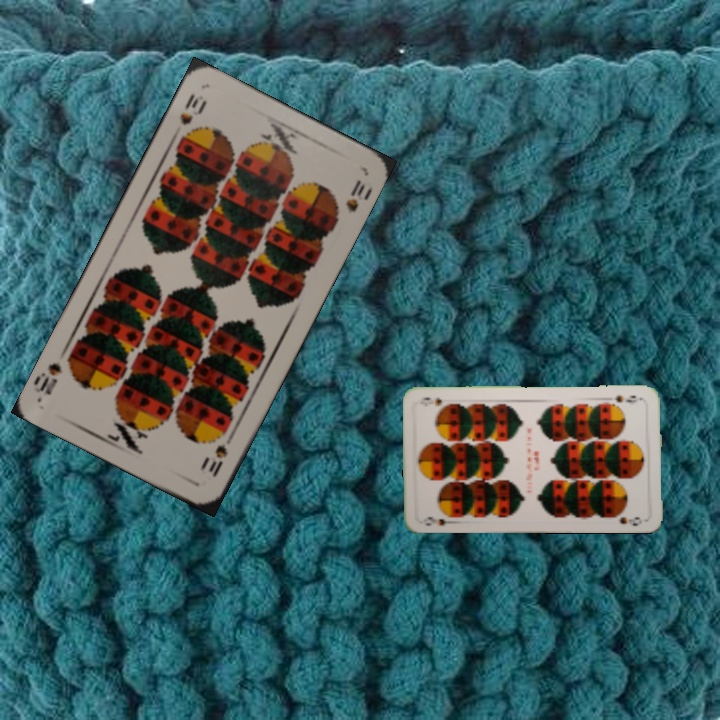S10: (176, 89, 209, 128), (204, 440, 231, 480)
S9: (418, 509, 458, 528), (610, 392, 646, 406)
